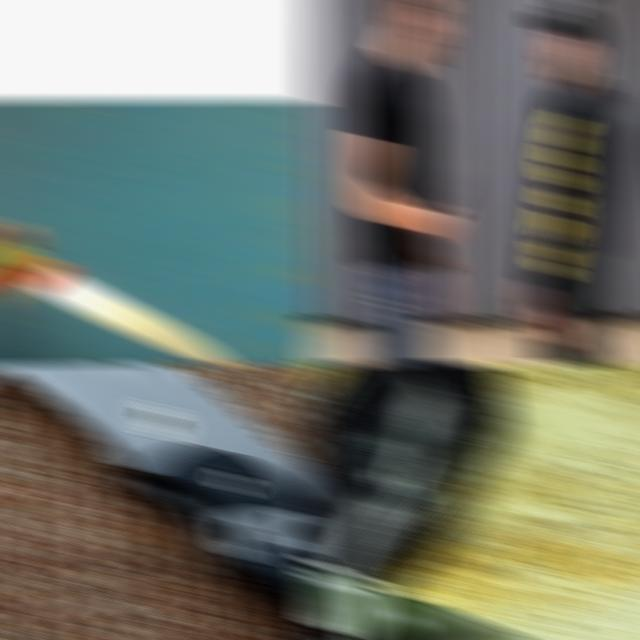Knife: (0, 237, 239, 366)
Knife_Handle: (0, 176, 263, 366), (410, 164, 470, 242)
